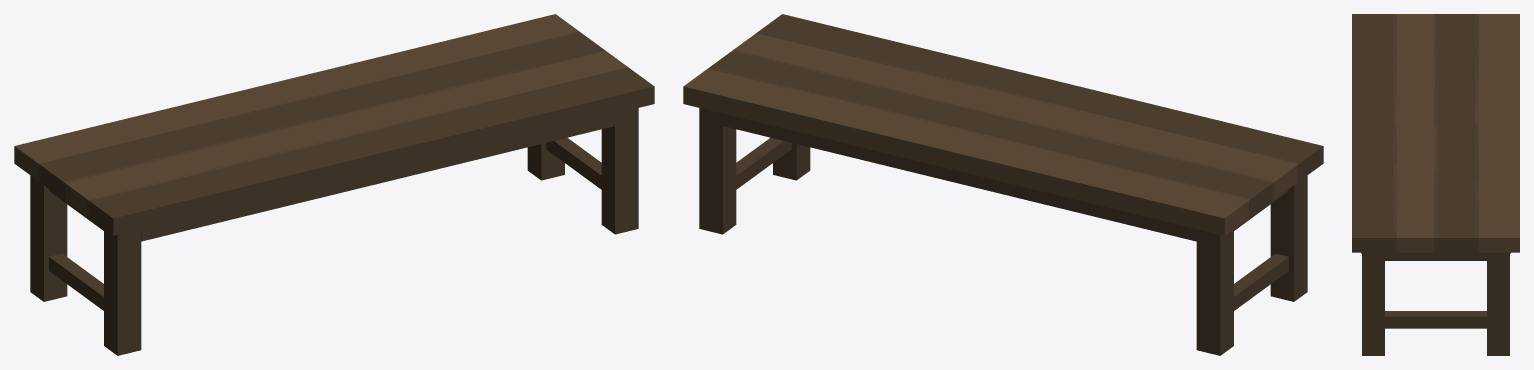
Rendered from LairLedgerTable.fbx.
3 views of the same model, side by side, from view 1: azimuth 30°, elevation 25°; view 2: azimuth 150°, elevation 25°; view 3: azimuth 270°, elevation 25° (orthographic). The views are drawn at different scales.
Visible parts, largest first — view 1: LairLedgerTable; view 2: LairLedgerTable; view 3: LairLedgerTable.
Part boxes in pixels (<box>): LairLedgerTable: <box>14,14,654,355</box>; LairLedgerTable: <box>683,14,1323,355</box>; LairLedgerTable: <box>1352,14,1519,355</box>.
Bounding box in the file's own units: 322 × 82 × 102.
2 materials, 2 textured.
